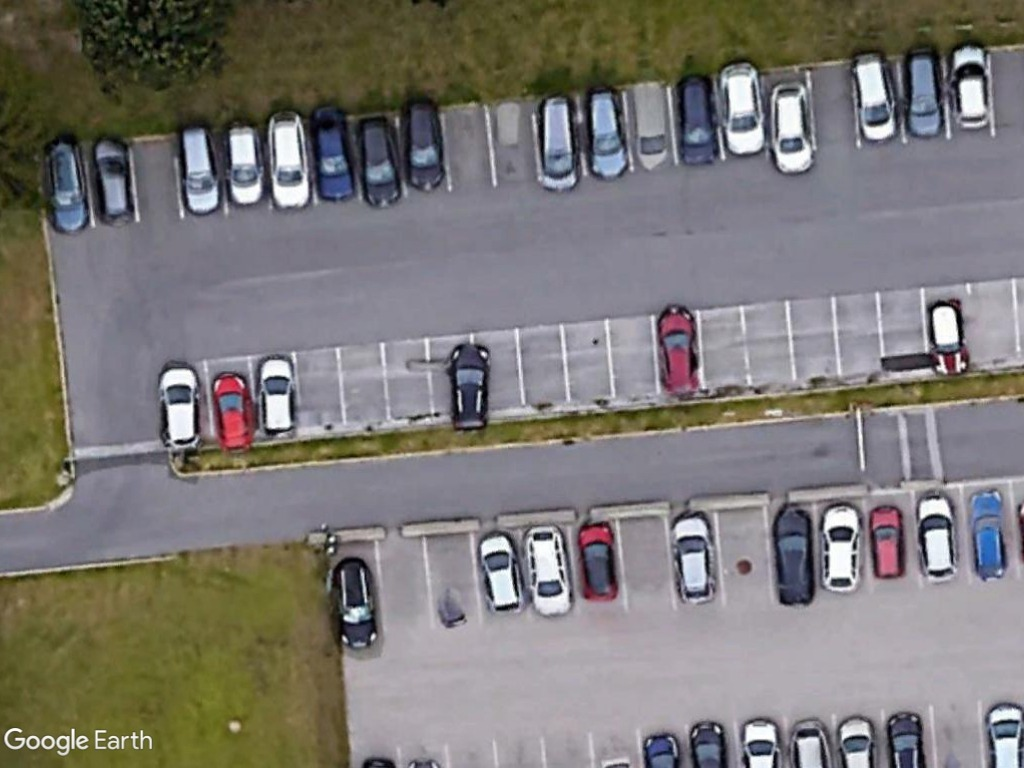car: (845, 46, 901, 141), (40, 137, 93, 237), (716, 57, 767, 159), (307, 101, 358, 203), (771, 504, 820, 609), (264, 108, 313, 212), (532, 92, 583, 191), (765, 80, 817, 176), (522, 522, 572, 621), (652, 303, 703, 400), (153, 361, 206, 454), (355, 111, 404, 209), (668, 512, 719, 605), (399, 96, 448, 192), (476, 529, 529, 617), (90, 135, 139, 230), (583, 83, 630, 182), (965, 485, 1012, 584), (174, 124, 223, 218), (674, 70, 720, 168), (332, 558, 379, 653), (447, 341, 494, 434), (901, 41, 944, 139), (949, 38, 992, 135), (219, 118, 265, 208), (913, 491, 958, 583), (577, 522, 623, 606), (211, 367, 256, 452), (926, 295, 971, 379), (256, 354, 300, 438), (821, 503, 860, 593), (866, 503, 908, 582)
